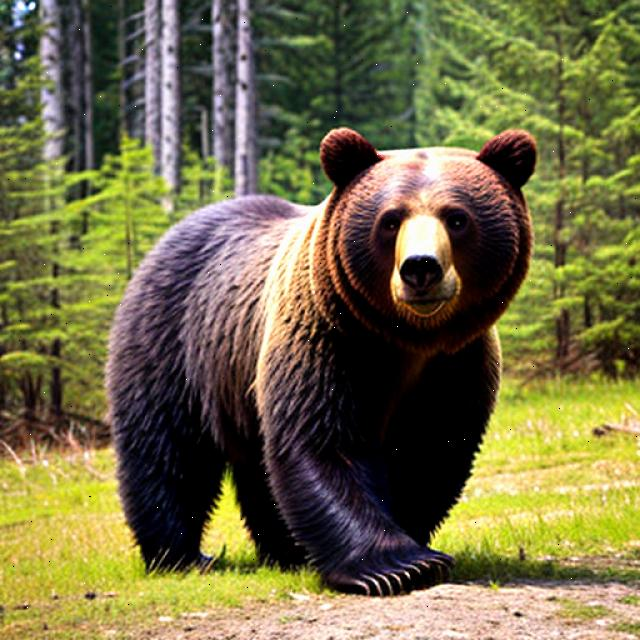bear: (128, 140, 567, 585)
